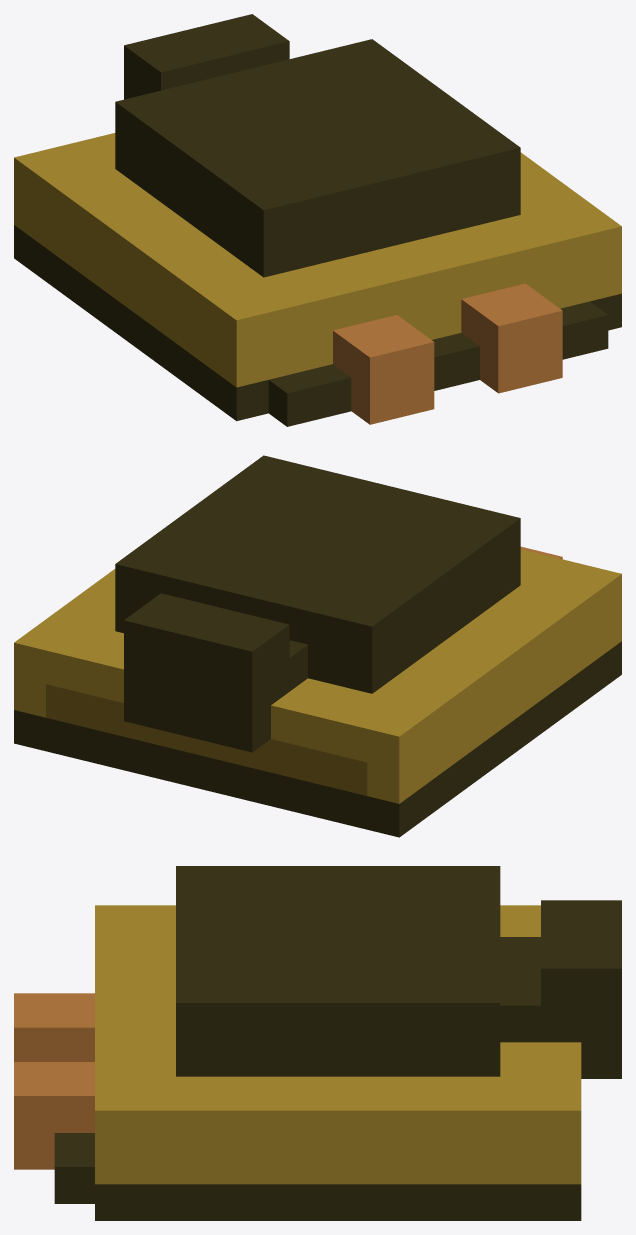
The model's file is enemy_t_base.obj.
3 renders of one model, top to bottom at view 1: azimuth 30°, elevation 25°; view 2: azimuth 150°, elevation 25°; view 3: azimuth 270°, elevation 25°, orthographic. The views are drawn at different scales.
Bounding box in the file's own units: 1.2 × 0.5 × 1.5.
Materials: 1 (1 with a texture image).
